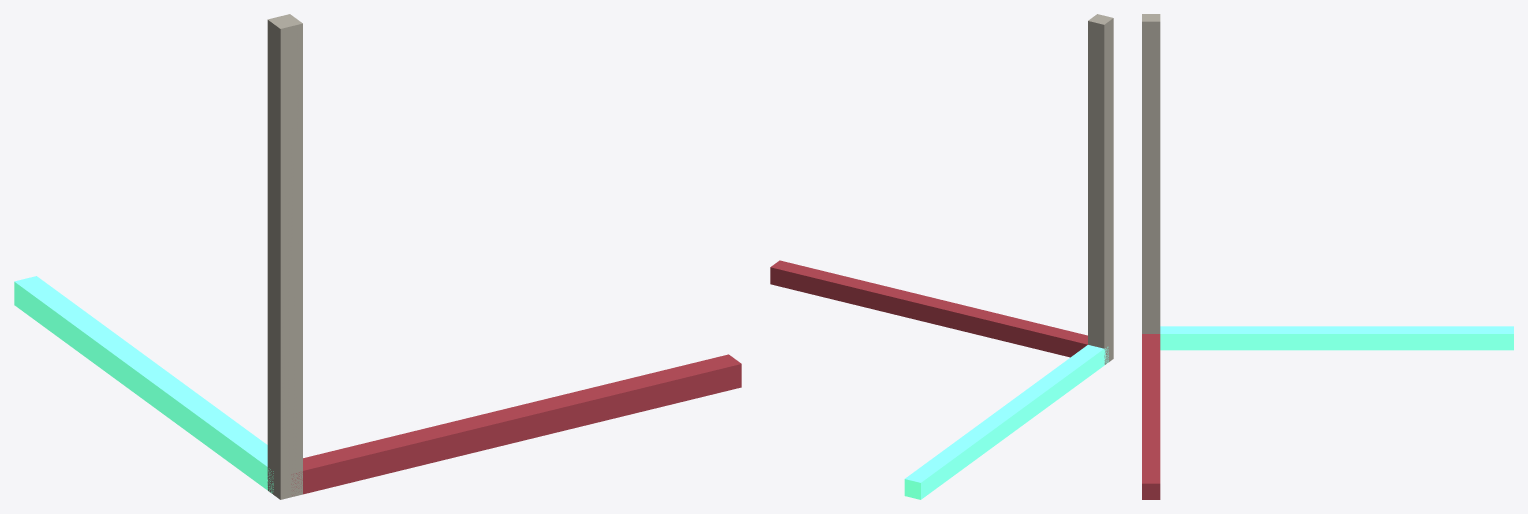
The model's file is SM_AEON_BasisMarker.glb.
The picture shows the model from 3 angles, left to right: view 1: azimuth 30°, elevation 25°; view 2: azimuth 150°, elevation 25°; view 3: azimuth 270°, elevation 25°; orthographic projection. The views are drawn at different scales.
Parts seen in each view (by area): view 1: SM_AEON_BasisMarker; view 2: SM_AEON_BasisMarker; view 3: SM_AEON_BasisMarker.
Part boxes in pixels (x1,y1,x2,y2): SM_AEON_BasisMarker: [14, 14, 741, 499]; SM_AEON_BasisMarker: [770, 14, 1113, 499]; SM_AEON_BasisMarker: [1142, 14, 1513, 499].
Bounding box in the file's own units: 2.05 × 2 × 2.05.
